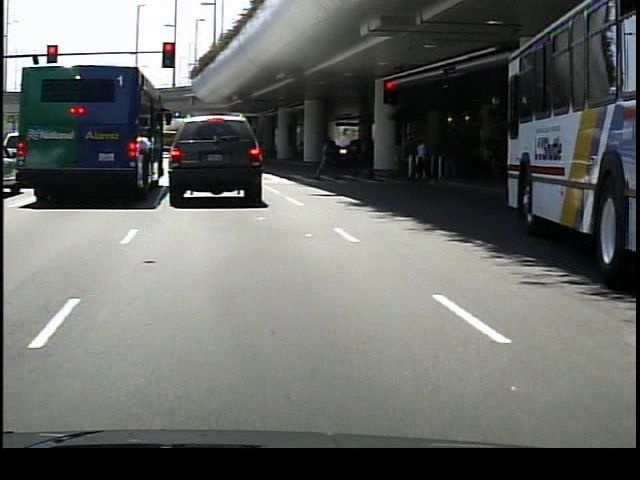person: (314, 132, 342, 182), (356, 129, 380, 185), (411, 135, 432, 187)
